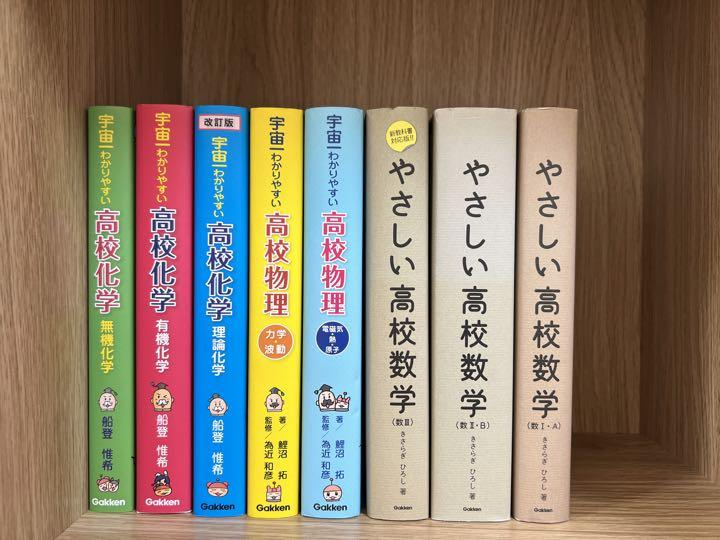book: (428, 101, 519, 524), (363, 103, 432, 524), (129, 99, 197, 516), (299, 101, 366, 520), (513, 104, 578, 523), (244, 103, 305, 519), (191, 98, 249, 518), (84, 101, 136, 517)
